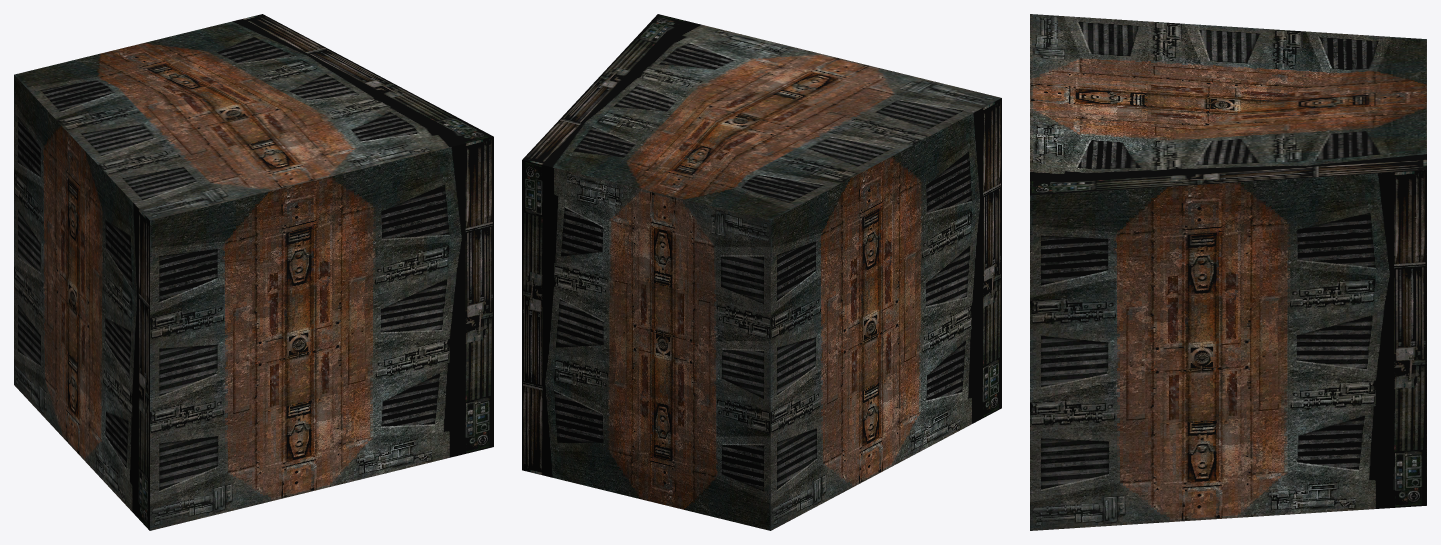
The model's file is poi_yavn_death_star_wreckage_s03_l2.fbx.
The picture shows the model from 3 angles, left to right: view 1: azimuth 30°, elevation 25°; view 2: azimuth 150°, elevation 25°; view 3: azimuth 270°, elevation 25°; orthographic projection. The views are drawn at different scales.
Parts seen in each view (by area): view 1: mesh_node; view 2: mesh_node; view 3: mesh_node.
Part boxes in pixels (<box>): mesh_node: <box>14,14,493,530</box>; mesh_node: <box>522,14,1001,530</box>; mesh_node: <box>1030,14,1426,530</box>.
Bounding box in the file's own units: 8.02 × 6.92 × 7.41.
Materials: 1 (1 with a texture image).
